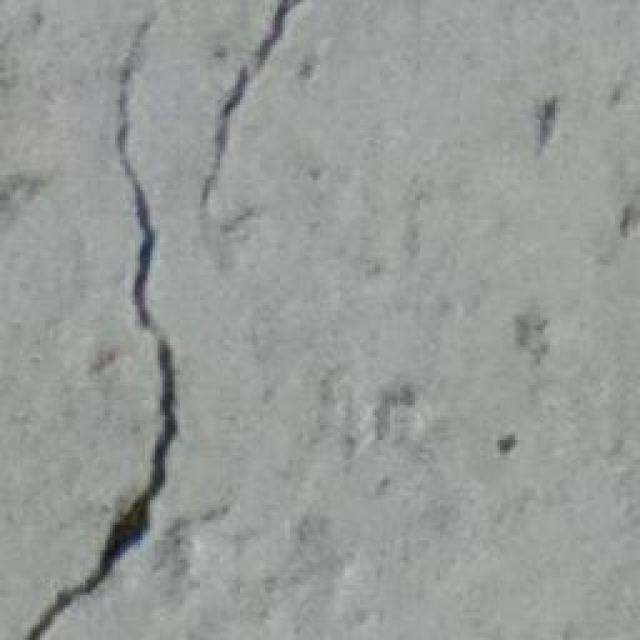Diagonal: (205, 0, 307, 200)
Longitudinal: (7, 13, 201, 640)
